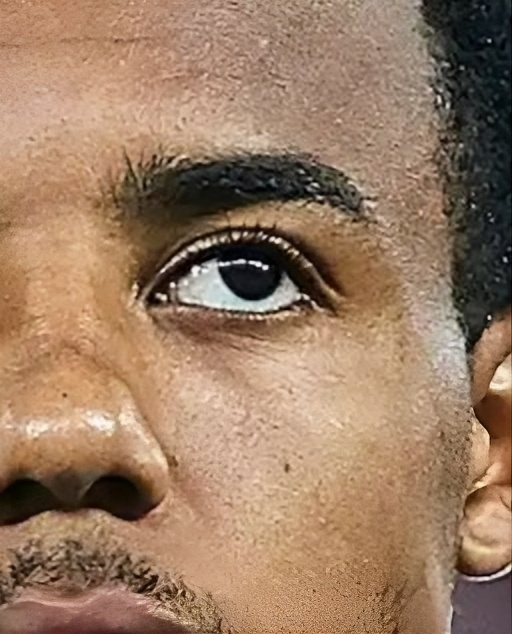iris: (219, 254, 285, 300)
pupil: (228, 251, 273, 286)
sclera: (177, 257, 297, 310)
